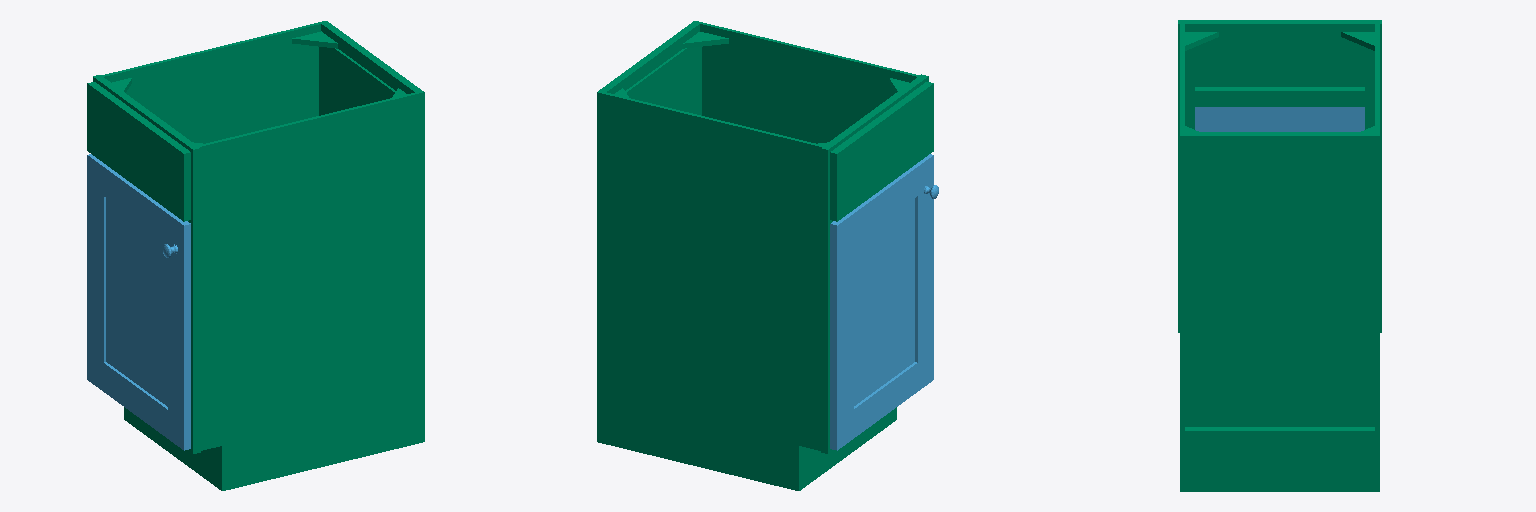
The robot description file, URDF, robot "partnet_36bfa6f0a5897be786d53ab0fe94e911":
<?xml version="1.0" ?>
<robot name="partnet_36bfa6f0a5897be786d53ab0fe94e911">
	<link name="base"/>
	<link name="link_0">
		<visual name="cabinet_door_surface-11">
			<origin xyz="0.36486497044011035 -0.7613319754600525 -0.534723700171516"/>
			<geometry>
				<mesh filename="textured_objs/original-26.obj"/>
			</geometry>
		</visual>
		<visual name="cabinet_door_surface-11">
			<origin xyz="0.36486497044011035 -0.7613319754600525 -0.534723700171516"/>
			<geometry>
				<mesh filename="textured_objs/original-30.obj"/>
			</geometry>
		</visual>
		<visual name="cabinet_door_surface-11">
			<origin xyz="0.36486497044011035 -0.7613319754600525 -0.534723700171516"/>
			<geometry>
				<mesh filename="textured_objs/original-28.obj"/>
			</geometry>
		</visual>
		<visual name="cabinet_door_surface-11">
			<origin xyz="0.36486497044011035 -0.7613319754600525 -0.534723700171516"/>
			<geometry>
				<mesh filename="textured_objs/original-29.obj"/>
			</geometry>
		</visual>
		<visual name="cabinet_door_surface-11">
			<origin xyz="0.36486497044011035 -0.7613319754600525 -0.534723700171516"/>
			<geometry>
				<mesh filename="textured_objs/original-27.obj"/>
			</geometry>
		</visual>
		<visual name="handle-12">
			<origin xyz="0.36486497044011035 -0.7613319754600525 -0.534723700171516"/>
			<geometry>
				<mesh filename="textured_objs/original-31.obj"/>
			</geometry>
		</visual>
		<collision>
			<origin xyz="0.36486497044011035 -0.7613319754600525 -0.534723700171516"/>
			<geometry>
				<mesh filename="textured_objs/original-26.obj"/>
			</geometry>
		</collision>
		<collision>
			<origin xyz="0.36486497044011035 -0.7613319754600525 -0.534723700171516"/>
			<geometry>
				<mesh filename="textured_objs/original-30.obj"/>
			</geometry>
		</collision>
		<collision>
			<origin xyz="0.36486497044011035 -0.7613319754600525 -0.534723700171516"/>
			<geometry>
				<mesh filename="textured_objs/original-28.obj"/>
			</geometry>
		</collision>
		<collision>
			<origin xyz="0.36486497044011035 -0.7613319754600525 -0.534723700171516"/>
			<geometry>
				<mesh filename="textured_objs/original-29.obj"/>
			</geometry>
		</collision>
		<collision>
			<origin xyz="0.36486497044011035 -0.7613319754600525 -0.534723700171516"/>
			<geometry>
				<mesh filename="textured_objs/original-27.obj"/>
			</geometry>
		</collision>
		<collision>
			<origin xyz="0.36486497044011035 -0.7613319754600525 -0.534723700171516"/>
			<geometry>
				<mesh filename="textured_objs/original-31.obj"/>
			</geometry>
		</collision>
	</link>
	<joint name="joint_0" type="revolute">
		<origin xyz="-0.36486497044011035 0.7613319754600525 0.534723700171516"/>
		<axis xyz="0 -1 0"/>
		<child link="link_0"/>
		<parent link="link_1"/>
		<limit lower="-0.0" upper="1.7453292519943295"/>
	</joint>
	<link name="link_1">
		<visual name="drawer_front-10">
			<origin xyz="0 0 0"/>
			<geometry>
				<mesh filename="textured_objs/original-24.obj"/>
			</geometry>
		</visual>
		<visual name="back_panel-20">
			<origin xyz="0 0 0"/>
			<geometry>
				<mesh filename="textured_objs/original-5.obj"/>
			</geometry>
		</visual>
		<visual name="bottom_panel-21">
			<origin xyz="0 0 0"/>
			<geometry>
				<mesh filename="textured_objs/original-2.obj"/>
			</geometry>
		</visual>
		<visual name="frame_vertical_bar-22">
			<origin xyz="0 0 0"/>
			<geometry>
				<mesh filename="textured_objs/original-7.obj"/>
			</geometry>
		</visual>
		<visual name="frame_vertical_bar-23">
			<origin xyz="0 0 0"/>
			<geometry>
				<mesh filename="textured_objs/original-3.obj"/>
			</geometry>
		</visual>
		<visual name="frame_horizontal_bar-24">
			<origin xyz="0 0 0"/>
			<geometry>
				<mesh filename="textured_objs/original-4.obj"/>
			</geometry>
		</visual>
		<visual name="frame_horizontal_bar-25">
			<origin xyz="0 0 0"/>
			<geometry>
				<mesh filename="textured_objs/original-8.obj"/>
			</geometry>
		</visual>
		<visual name="frame_horizontal_bar-26">
			<origin xyz="0 0 0"/>
			<geometry>
				<mesh filename="textured_objs/original-17.obj"/>
			</geometry>
		</visual>
		<visual name="frame_horizontal_bar-27">
			<origin xyz="0 0 0"/>
			<geometry>
				<mesh filename="textured_objs/original-6.obj"/>
			</geometry>
		</visual>
		<visual name="other_leaf-35">
			<origin xyz="0 0 0"/>
			<geometry>
				<mesh filename="textured_objs/original-22.obj"/>
			</geometry>
		</visual>
		<visual name="other_leaf-34">
			<origin xyz="0 0 0"/>
			<geometry>
				<mesh filename="textured_objs/original-23.obj"/>
			</geometry>
		</visual>
		<visual name="other_leaf-33">
			<origin xyz="0 0 0"/>
			<geometry>
				<mesh filename="textured_objs/original-20.obj"/>
			</geometry>
		</visual>
		<visual name="other_leaf-32">
			<origin xyz="0 0 0"/>
			<geometry>
				<mesh filename="textured_objs/original-21.obj"/>
			</geometry>
		</visual>
		<visual name="vertical_side_panel-36">
			<origin xyz="0 0 0"/>
			<geometry>
				<mesh filename="textured_objs/original-11.obj"/>
			</geometry>
		</visual>
		<visual name="vertical_side_panel-36">
			<origin xyz="0 0 0"/>
			<geometry>
				<mesh filename="textured_objs/original-10.obj"/>
			</geometry>
		</visual>
		<visual name="vertical_side_panel-37">
			<origin xyz="0 0 0"/>
			<geometry>
				<mesh filename="textured_objs/original-15.obj"/>
			</geometry>
		</visual>
		<visual name="vertical_side_panel-37">
			<origin xyz="0 0 0"/>
			<geometry>
				<mesh filename="textured_objs/original-14.obj"/>
			</geometry>
		</visual>
		<visual name="other_leaf-39">
			<origin xyz="0 0 0"/>
			<geometry>
				<mesh filename="textured_objs/original-32.obj"/>
			</geometry>
		</visual>
		<visual name="base_side_panel-14">
			<origin xyz="0 0 0"/>
			<geometry>
				<mesh filename="textured_objs/original-12.obj"/>
			</geometry>
		</visual>
		<visual name="base_side_panel-15">
			<origin xyz="0 0 0"/>
			<geometry>
				<mesh filename="textured_objs/original-18.obj"/>
			</geometry>
		</visual>
		<visual name="base_side_panel-16">
			<origin xyz="0 0 0"/>
			<geometry>
				<mesh filename="textured_objs/original-16.obj"/>
			</geometry>
		</visual>
		<visual name="base_side_panel-17">
			<origin xyz="0 0 0"/>
			<geometry>
				<mesh filename="textured_objs/original-19.obj"/>
			</geometry>
		</visual>
		<collision>
			<origin xyz="0 0 0"/>
			<geometry>
				<mesh filename="textured_objs/original-24.obj"/>
			</geometry>
		</collision>
		<collision>
			<origin xyz="0 0 0"/>
			<geometry>
				<mesh filename="textured_objs/original-5.obj"/>
			</geometry>
		</collision>
		<collision>
			<origin xyz="0 0 0"/>
			<geometry>
				<mesh filename="textured_objs/original-2.obj"/>
			</geometry>
		</collision>
		<collision>
			<origin xyz="0 0 0"/>
			<geometry>
				<mesh filename="textured_objs/original-7.obj"/>
			</geometry>
		</collision>
		<collision>
			<origin xyz="0 0 0"/>
			<geometry>
				<mesh filename="textured_objs/original-3.obj"/>
			</geometry>
		</collision>
		<collision>
			<origin xyz="0 0 0"/>
			<geometry>
				<mesh filename="textured_objs/original-4.obj"/>
			</geometry>
		</collision>
		<collision>
			<origin xyz="0 0 0"/>
			<geometry>
				<mesh filename="textured_objs/original-8.obj"/>
			</geometry>
		</collision>
		<collision>
			<origin xyz="0 0 0"/>
			<geometry>
				<mesh filename="textured_objs/original-17.obj"/>
			</geometry>
		</collision>
		<collision>
			<origin xyz="0 0 0"/>
			<geometry>
				<mesh filename="textured_objs/original-6.obj"/>
			</geometry>
		</collision>
		<collision>
			<origin xyz="0 0 0"/>
			<geometry>
				<mesh filename="textured_objs/original-22.obj"/>
			</geometry>
		</collision>
		<collision>
			<origin xyz="0 0 0"/>
			<geometry>
				<mesh filename="textured_objs/original-23.obj"/>
			</geometry>
		</collision>
		<collision>
			<origin xyz="0 0 0"/>
			<geometry>
				<mesh filename="textured_objs/original-20.obj"/>
			</geometry>
		</collision>
		<collision>
			<origin xyz="0 0 0"/>
			<geometry>
				<mesh filename="textured_objs/original-21.obj"/>
			</geometry>
		</collision>
		<collision>
			<origin xyz="0 0 0"/>
			<geometry>
				<mesh filename="textured_objs/original-11.obj"/>
			</geometry>
		</collision>
		<collision>
			<origin xyz="0 0 0"/>
			<geometry>
				<mesh filename="textured_objs/original-10.obj"/>
			</geometry>
		</collision>
		<collision>
			<origin xyz="0 0 0"/>
			<geometry>
				<mesh filename="textured_objs/original-15.obj"/>
			</geometry>
		</collision>
		<collision>
			<origin xyz="0 0 0"/>
			<geometry>
				<mesh filename="textured_objs/original-14.obj"/>
			</geometry>
		</collision>
		<collision>
			<origin xyz="0 0 0"/>
			<geometry>
				<mesh filename="textured_objs/original-32.obj"/>
			</geometry>
		</collision>
		<collision>
			<origin xyz="0 0 0"/>
			<geometry>
				<mesh filename="textured_objs/original-12.obj"/>
			</geometry>
		</collision>
		<collision>
			<origin xyz="0 0 0"/>
			<geometry>
				<mesh filename="textured_objs/original-18.obj"/>
			</geometry>
		</collision>
		<collision>
			<origin xyz="0 0 0"/>
			<geometry>
				<mesh filename="textured_objs/original-16.obj"/>
			</geometry>
		</collision>
		<collision>
			<origin xyz="0 0 0"/>
			<geometry>
				<mesh filename="textured_objs/original-19.obj"/>
			</geometry>
		</collision>
	</link>
	<joint name="joint_1" type="fixed">
		<origin rpy="1.570796326794897 0 -1.570796326794897" xyz="0 0 0"/>
		<child link="link_1"/>
		<parent link="base"/>
	</joint>
</robot>

--- Render facts (derived) ---
Views: 3 orthographic renders of the robot side by side, from view 1: azimuth 30°, elevation 25°; view 2: azimuth 150°, elevation 25°; view 3: azimuth 270°, elevation 25°.
Model partnet_36bfa6f0a5897be786d53ab0fe94e911 with 3 links and 2 joints (1 revolute, 1 fixed), rooted at base, posed all joints at 0.
Visible links, largest first — view 1: link_1, link_0; view 2: link_1, link_0; view 3: link_1, link_0.
Link boxes in pixels (x1=…): link_1: x1=87, y1=21, x2=424, y2=490; link_0: x1=87, y1=154, x2=190, y2=450; link_1: x1=597, y1=21, x2=933, y2=490; link_0: x1=830, y1=154, x2=938, y2=450; link_1: x1=1178, y1=20, x2=1381, y2=491; link_0: x1=1195, y1=107, x2=1364, y2=131.
Bounding box of the posed robot: 1.14 × 0.7912 × 1.52 m (x, y, z).
Meshes: 28 distinct files referenced, 28 mesh visuals loaded (28 OBJ).
